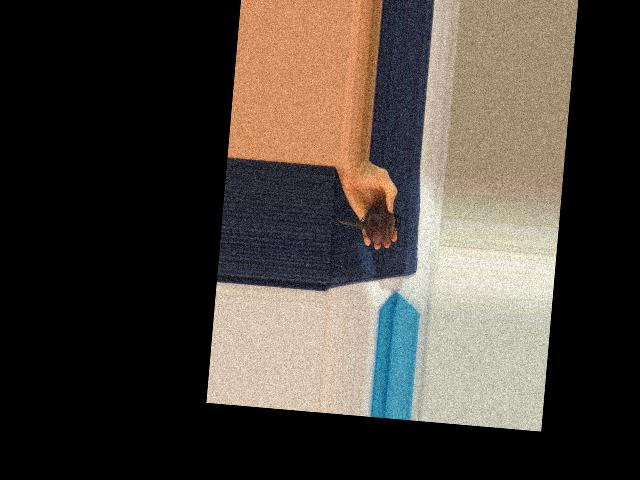beet: (334, 200, 401, 246)
